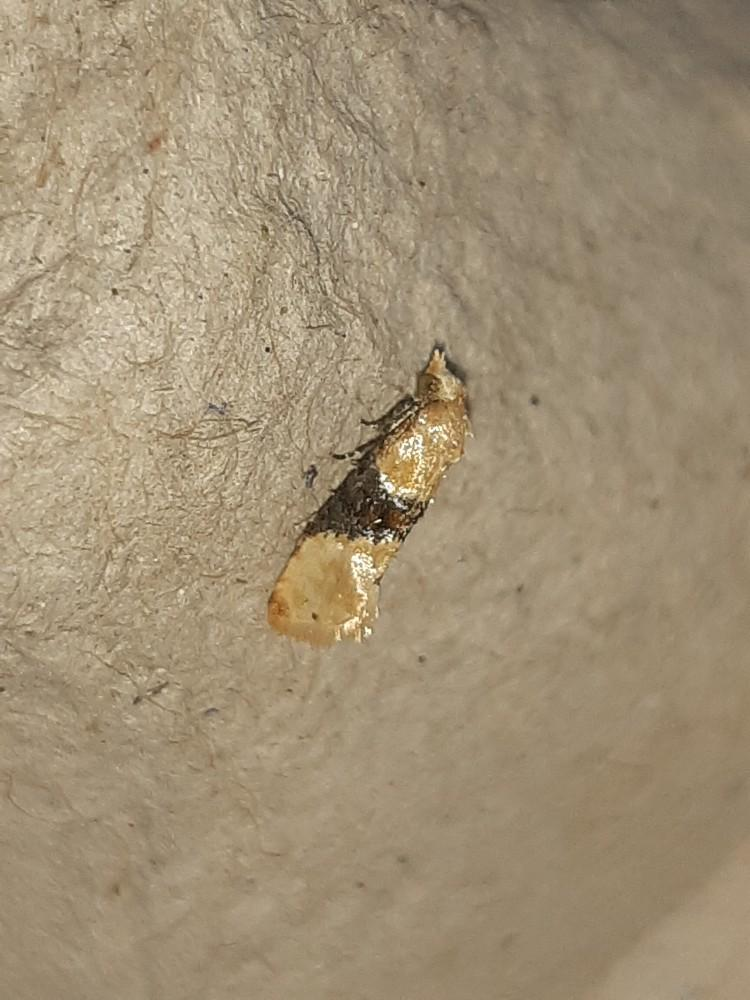Eupoecilia Ambiguella: (263, 341, 475, 651)
